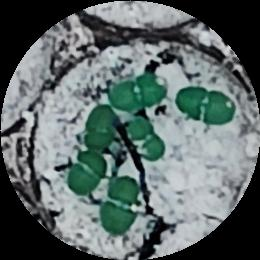Basil: (175, 83, 239, 128), (98, 178, 141, 232), (111, 72, 165, 113), (68, 147, 107, 198), (123, 119, 169, 160), (84, 103, 119, 151)
